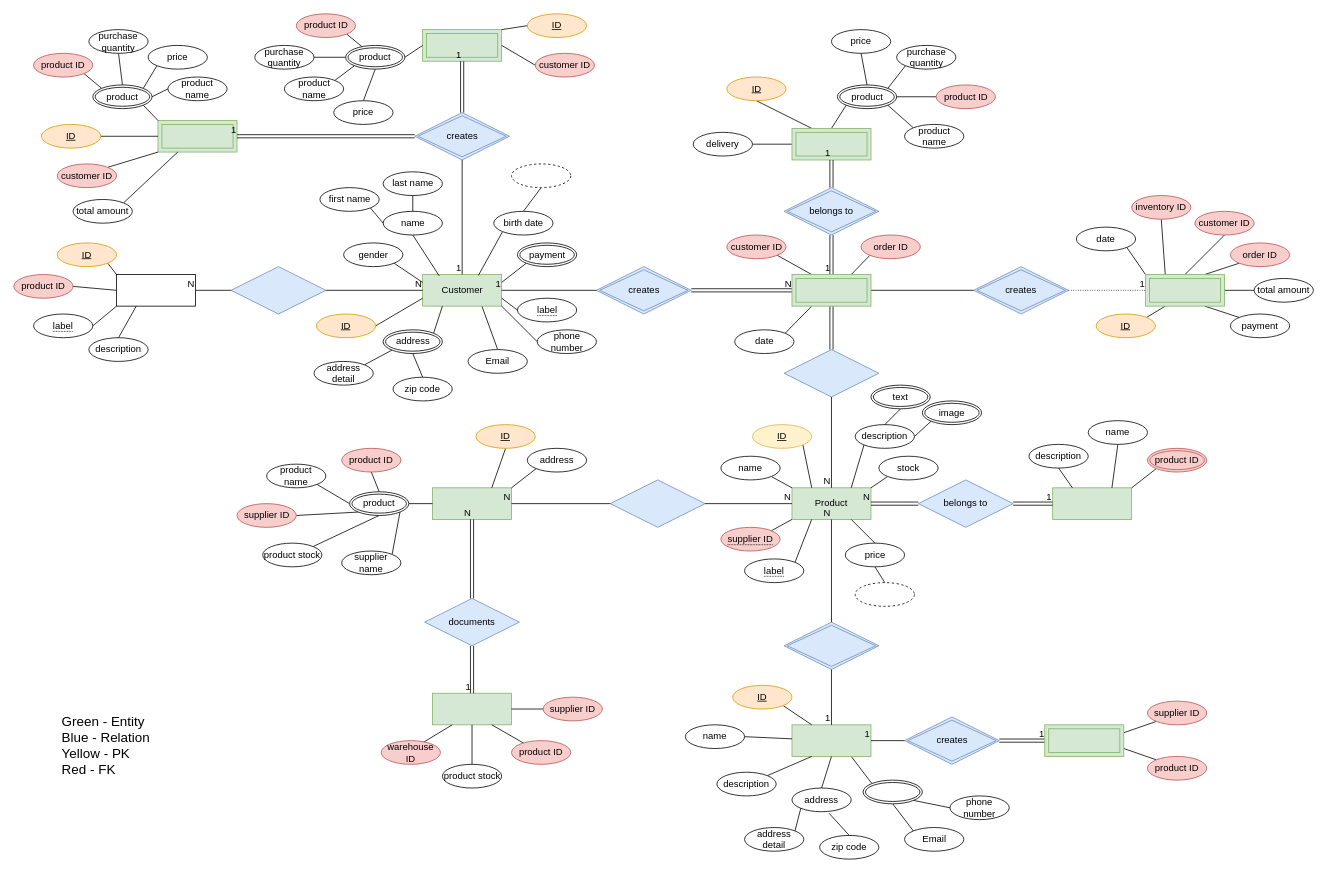
The diagram is 1327 pixels wide and 873 high, and some of its shapes have lost their labels. Each missing label, with the centre of its shape:
Ad: pixel 156 290
advertises: pixel 278 290
age: pixel 541 175
Category: pixel 1092 503
contact: pixel 892 791
includes: pixel 831 373
Inventory: pixel 472 708
Order: pixel 831 290
Order Details: pixel 831 144
produces: pixel 831 645
sale price: pixel 884 594
Shelves: pixel 1084 740
Shopping Cart: pixel 197 136
stores: pixel 657 503
Supplier: pixel 831 740
Transaction: pixel 1184 290
Warehouse: pixel 472 503
Wishing List: pixel 462 45
